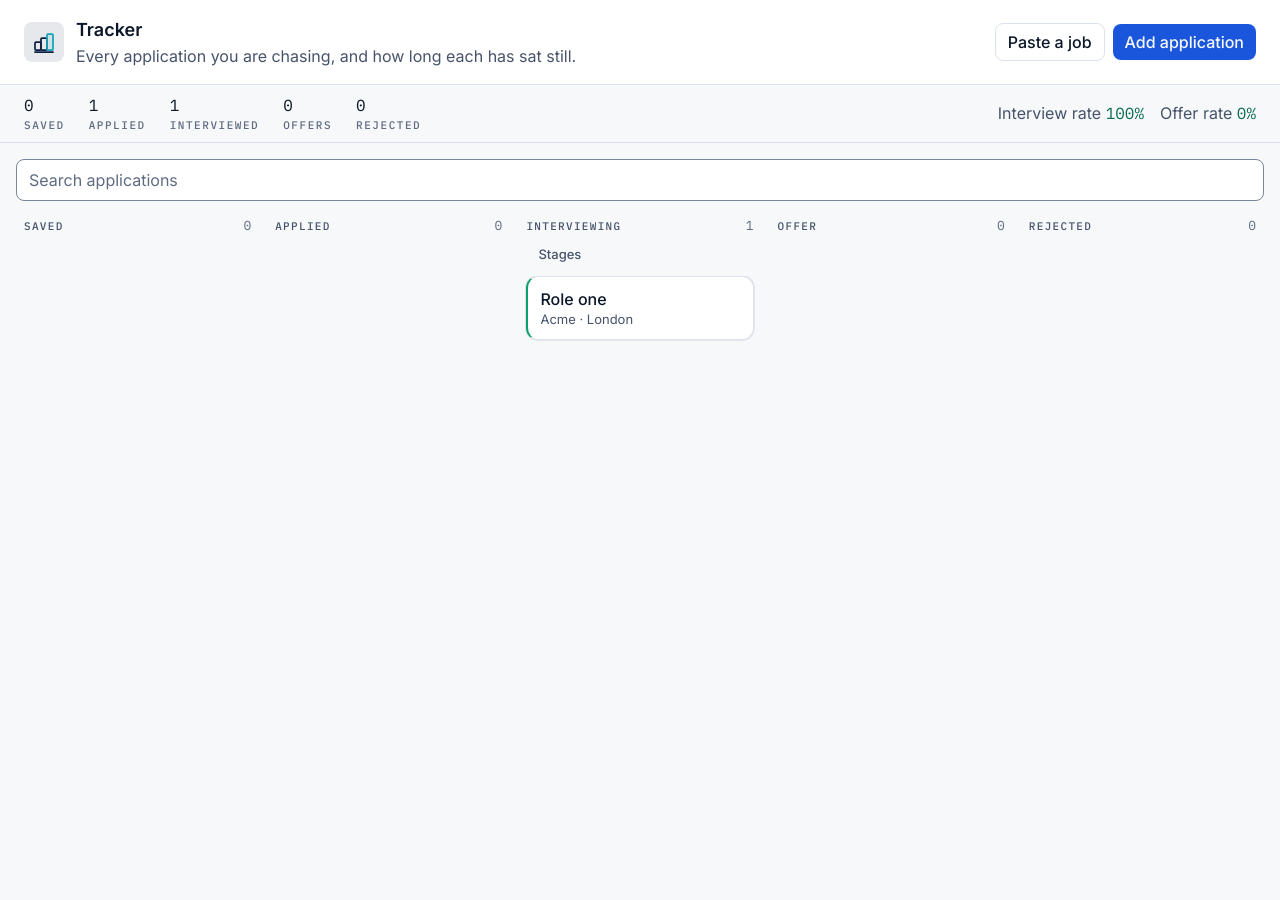
Scenario: choosing a sub-stage from the detail pane › lists "No stage" and every sub-stage in order, and saves the choice
The width and height of the screenshot is (1280, 900).
Expected: the element with test id "tracker-column-interviewing" is shown, [518,208,762,348]
Step 1. Click the button with test id "tracker-card-one" → (640, 308), box [526,276,754,340]
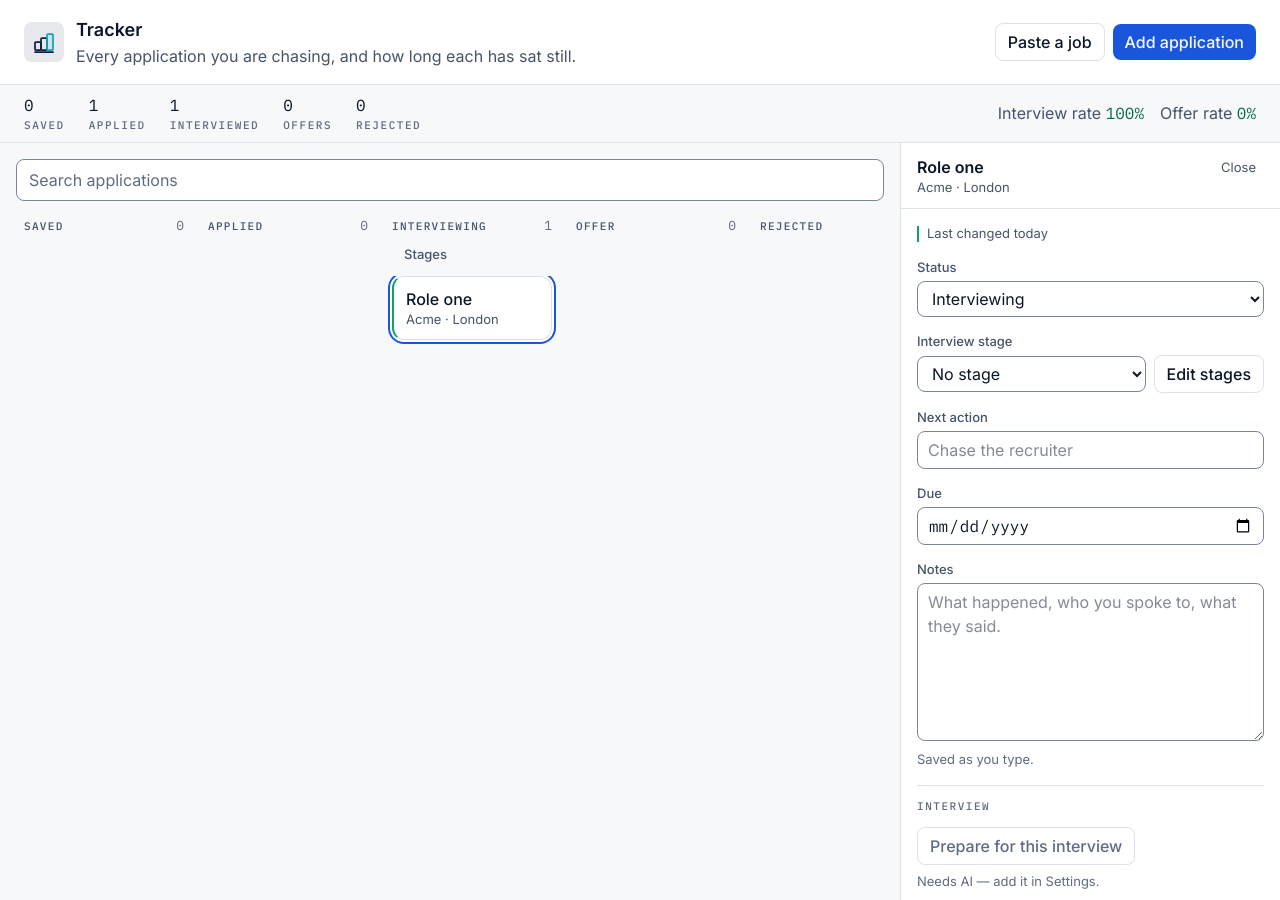
Step 2. Select "Panel Round" in the dropdown with test id "detail-substage" → (1031, 374), box [917,356,1146,392]
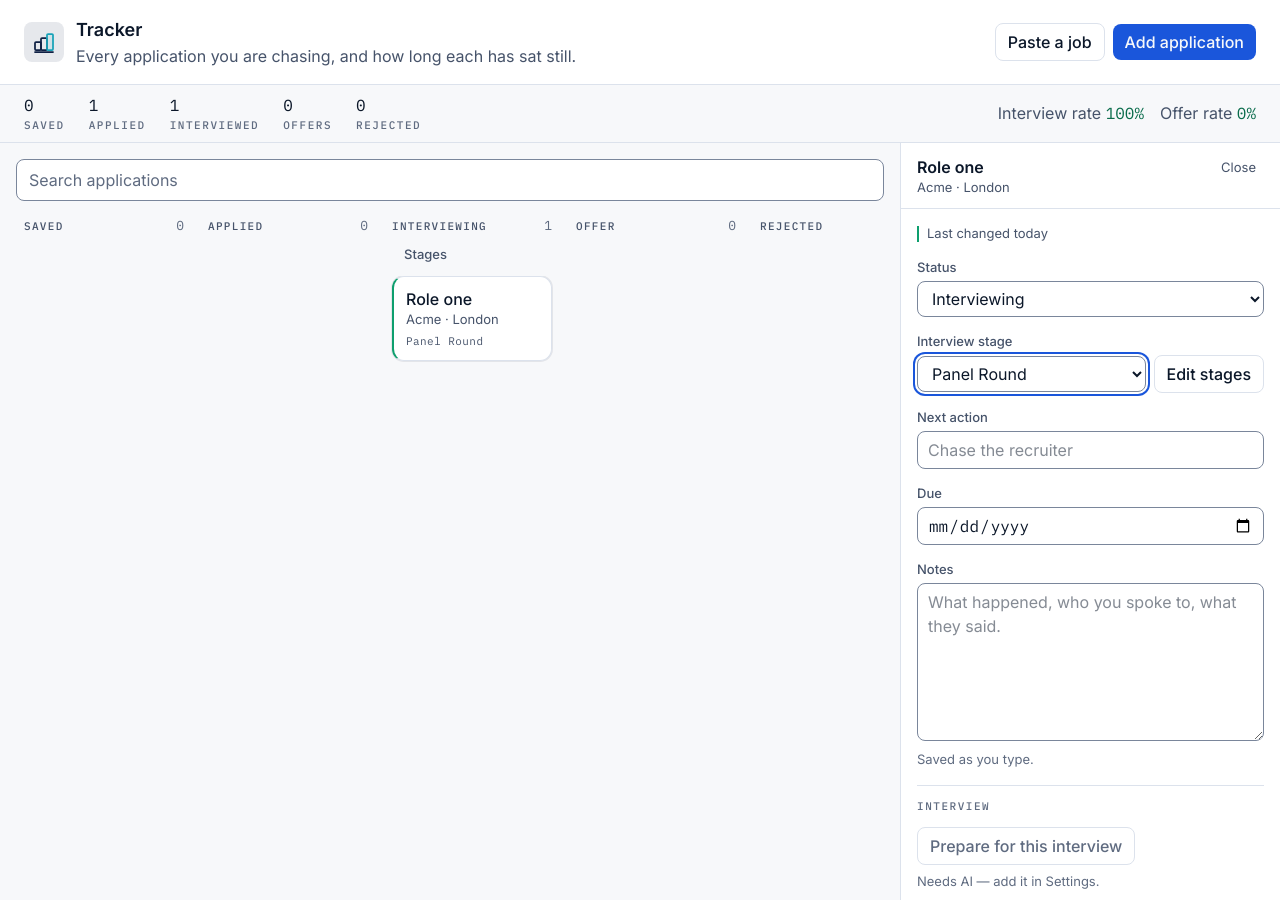
Expected: the text with test id "tracker-card-substage-one" reads "Panel Round", [406,334,484,348]
